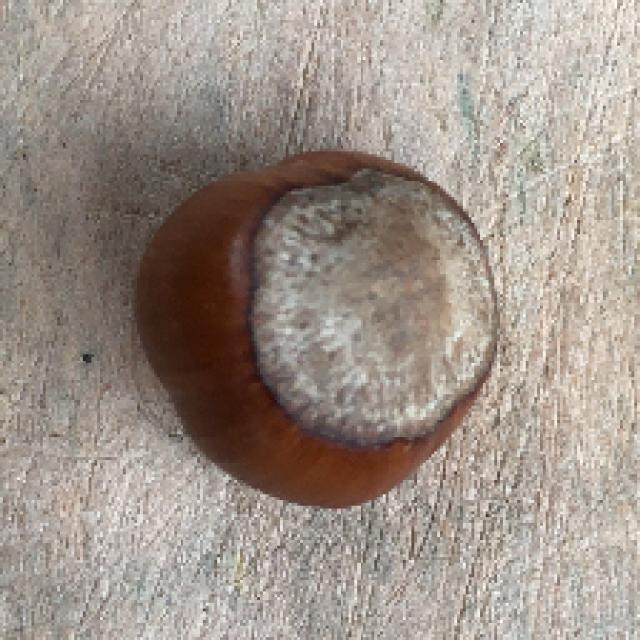qualityHazelnut: (133, 147, 507, 513)
